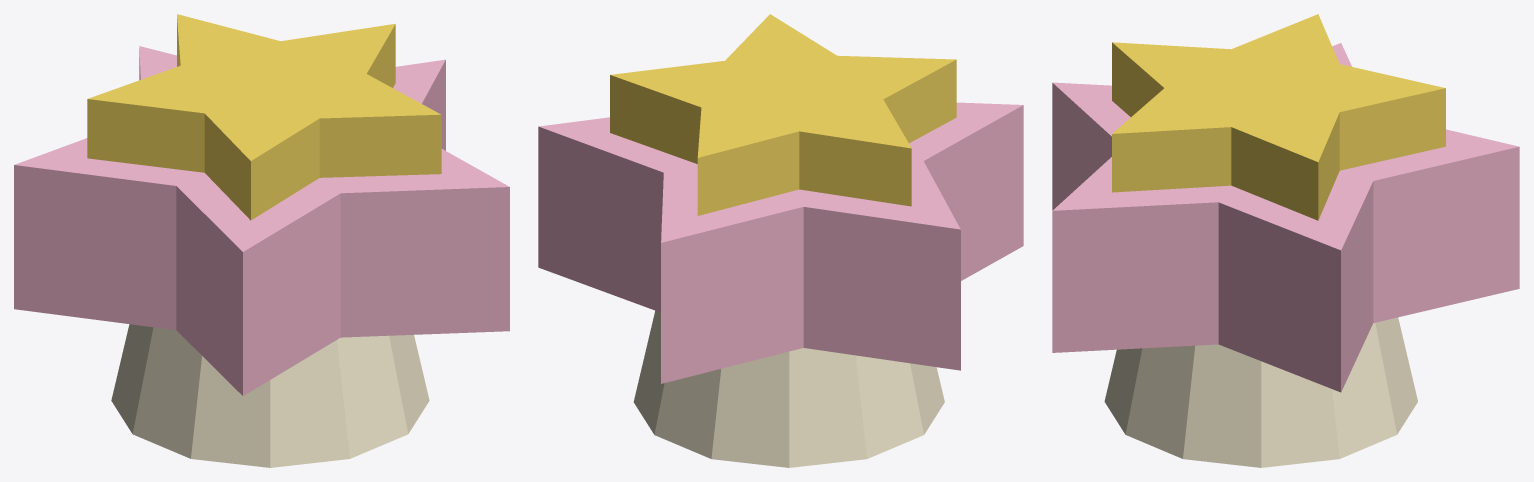
Rendered from prop_bumper_star_pink.glb.
3 views of the same model, side by side, from view 1: azimuth 30°, elevation 25°; view 2: azimuth 150°, elevation 25°; view 3: azimuth 270°, elevation 25° (orthographic). The views are drawn at different scales.
Visible parts, largest first — view 1: Mesh_Bumper_Star; view 2: Mesh_Bumper_Star; view 3: Mesh_Bumper_Star.
Part boxes in pixels (x1=…): Mesh_Bumper_Star: x1=14, y1=14, x2=509, y2=467; Mesh_Bumper_Star: x1=538, y1=14, x2=1023, y2=467; Mesh_Bumper_Star: x1=1052, y1=14, x2=1519, y2=467.
Size of what is drawn, in the model's own units: 1.07 by 0.75 by 1.01.
